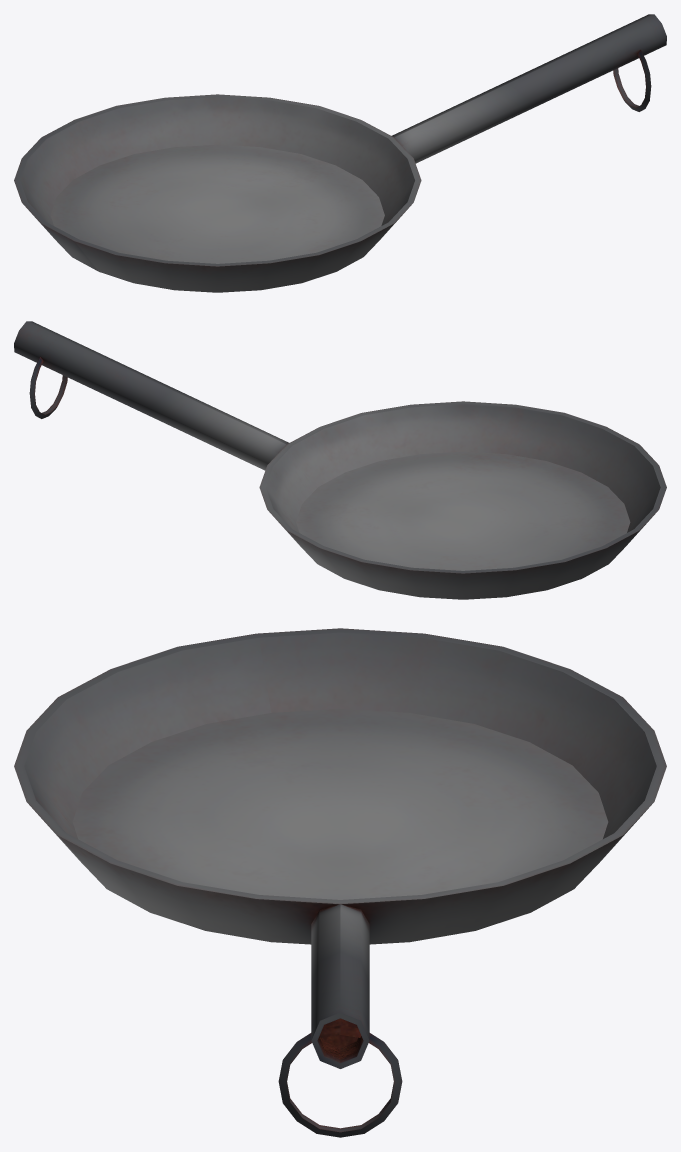
File: sb_obj_indoor003_FryingPan.fbx
3 renders of one model, top to bottom at view 1: azimuth 30°, elevation 25°; view 2: azimuth 150°, elevation 25°; view 3: azimuth 270°, elevation 25°, orthographic. The views are drawn at different scales.
Parts seen in each view (by area): view 1: sb_obj_indoor003_FryingPan; view 2: sb_obj_indoor003_FryingPan; view 3: sb_obj_indoor003_FryingPan.
Part boxes in pixels (bbox=[...]): sb_obj_indoor003_FryingPan: bbox=[14, 14, 666, 292]; sb_obj_indoor003_FryingPan: bbox=[14, 321, 666, 599]; sb_obj_indoor003_FryingPan: bbox=[14, 628, 666, 1137].
Bounding box in the file's own units: 0.4932 × 0.0765 × 0.2808.
